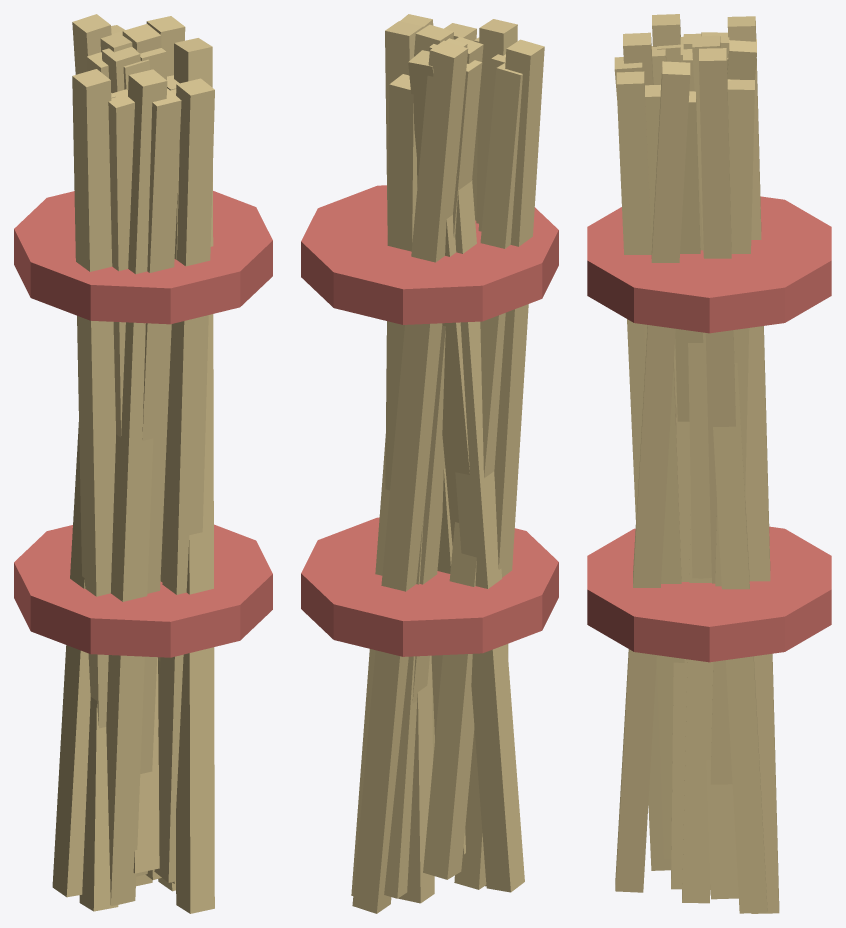
The model's file is andean-terraces-and-stone-village-stalk-bundle-1775af00__38266.glb.
3 views of the same model, side by side, from view 1: azimuth 30°, elevation 25°; view 2: azimuth 150°, elevation 25°; view 3: azimuth 270°, elevation 25° (orthographic).
Visible parts, largest first — view 1: stalk-bundle-thatch, stalk-bundle-cloth; view 2: stalk-bundle-thatch, stalk-bundle-cloth; view 3: stalk-bundle-thatch, stalk-bundle-cloth.
Boxes of the visible parts, <box> form: stalk-bundle-thatch: <box>52,14,214,913</box>; stalk-bundle-cloth: <box>14,191,272,657</box>; stalk-bundle-thatch: <box>351,14,544,913</box>; stalk-bundle-cloth: <box>301,185,558,656</box>; stalk-bundle-thatch: <box>614,14,779,913</box>; stalk-bundle-cloth: <box>587,196,831,662</box>.
Size of the model in its own units: 0.46 by 1.7 by 0.4375.
